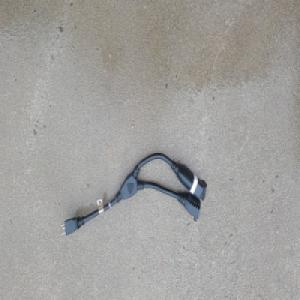Wire: (58, 151, 208, 239)
